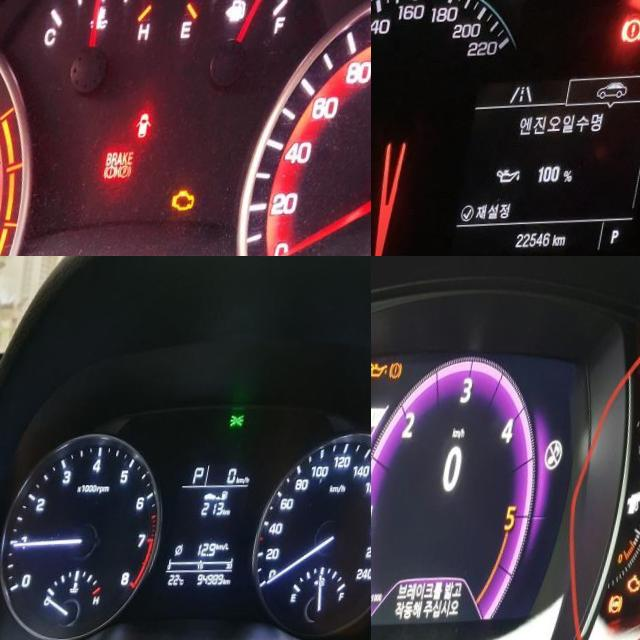Doors: (139, 115, 158, 141)
SideLamp: (234, 416, 252, 432)
